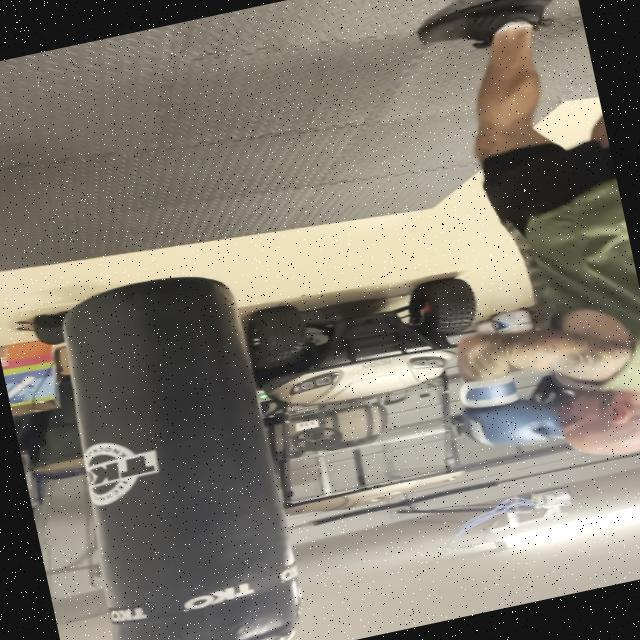bag: (42, 254, 322, 640)
no punch: (421, 274, 640, 506)
